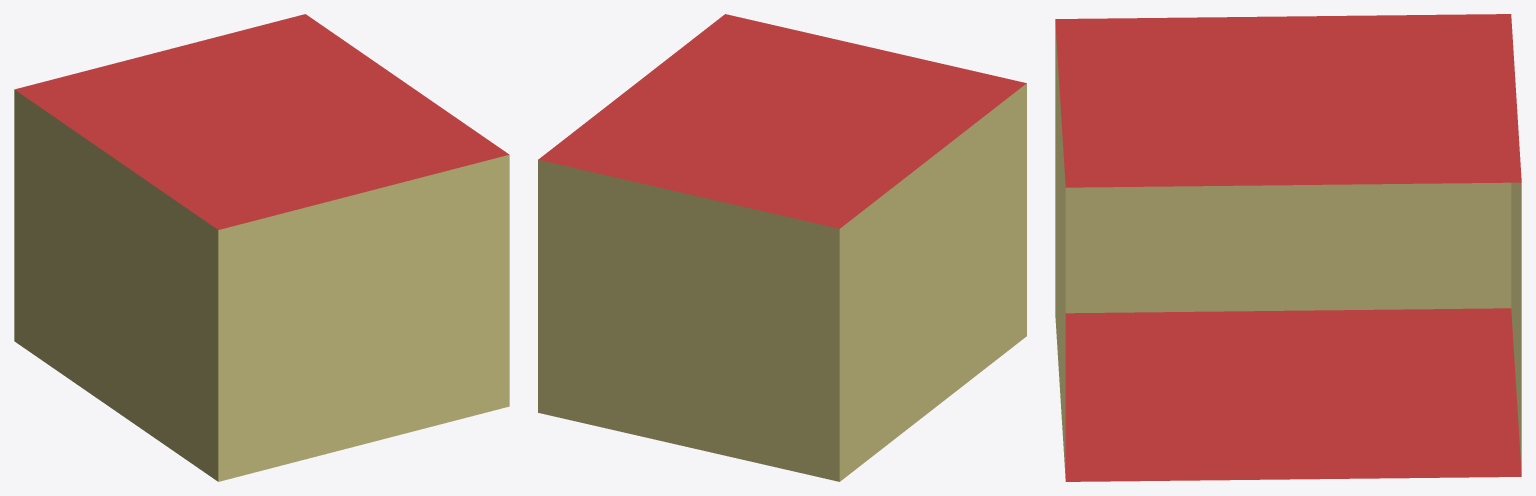
3 renders of one model, left to right at view 1: azimuth 30°, elevation 25°; view 2: azimuth 150°, elevation 25°; view 3: azimuth 270°, elevation 25°, orthographic. The views are drawn at different scales.
Bounding box in the file's own units: 6.53 × 7.41 × 5.16.
